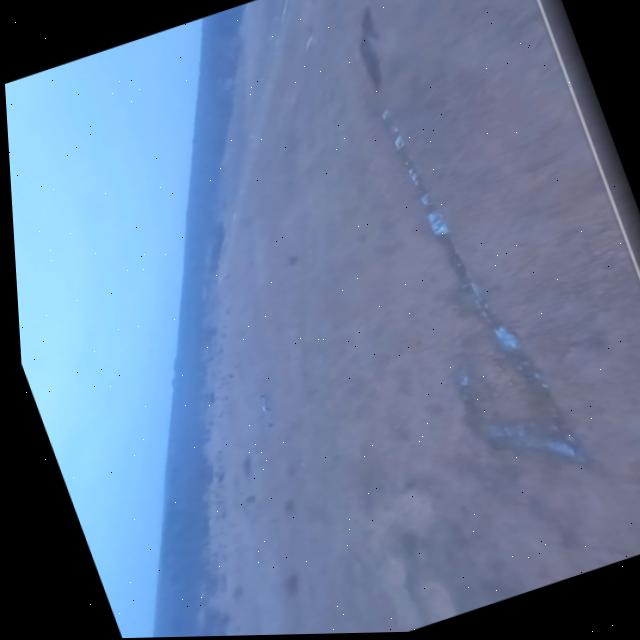planedrone: (242, 386, 284, 432)
